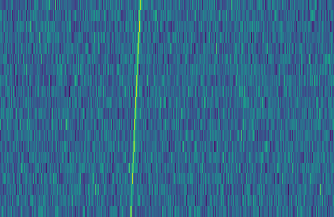signal: (126, 0, 144, 217)
